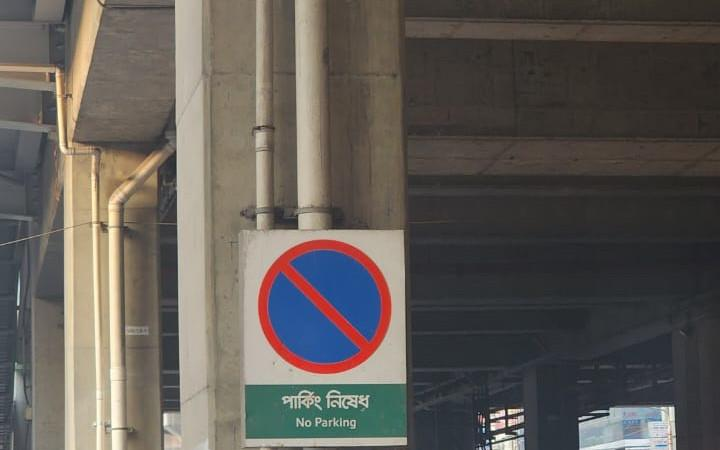No Parking: (241, 227, 409, 446)
